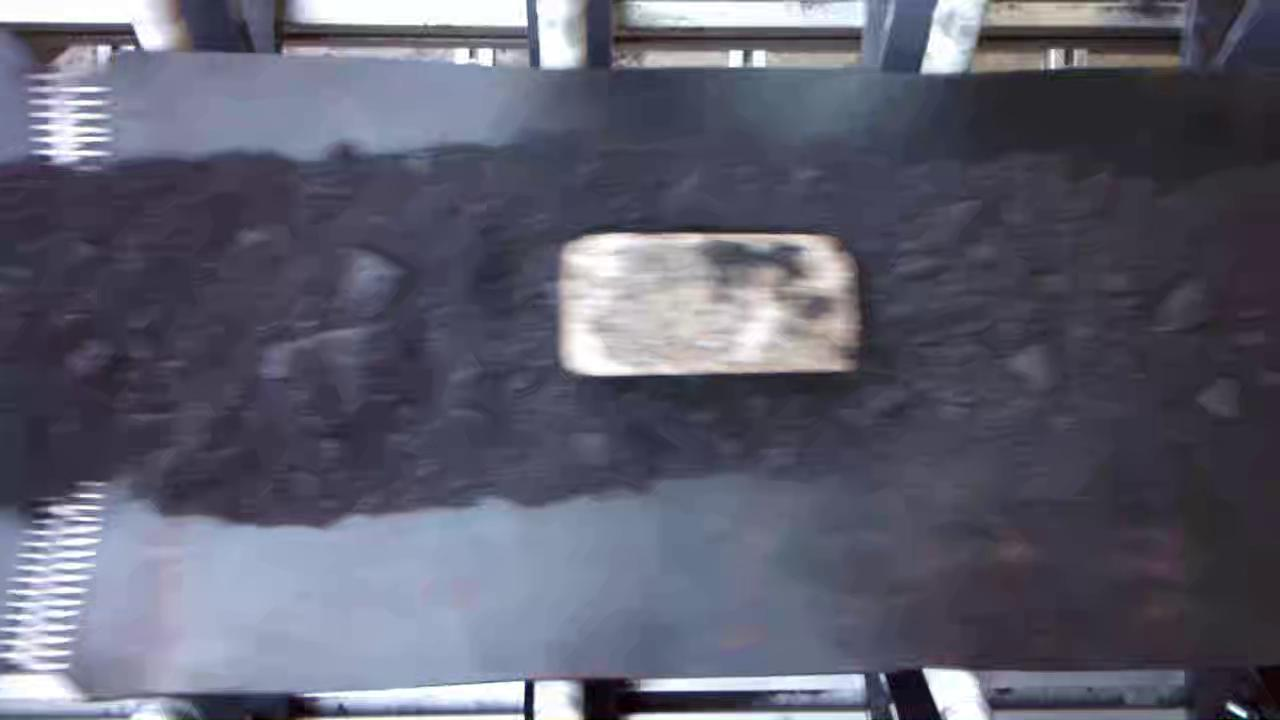conveyor: (3, 76, 1280, 654)
